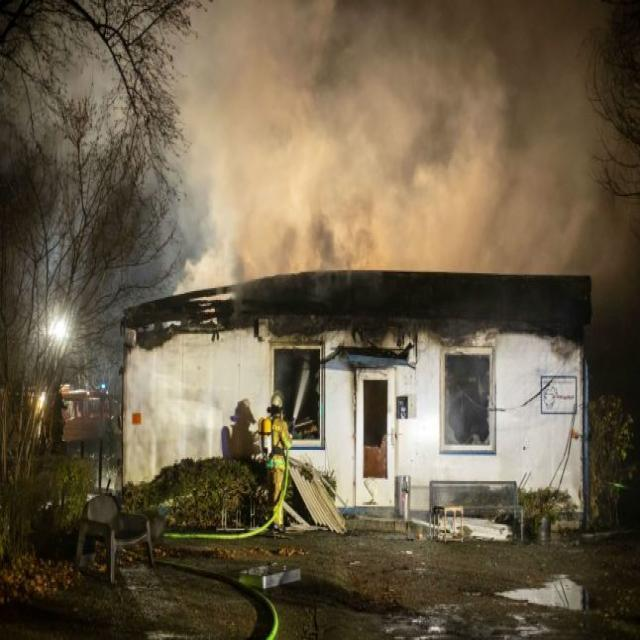Smoke: (247, 58, 566, 264)
